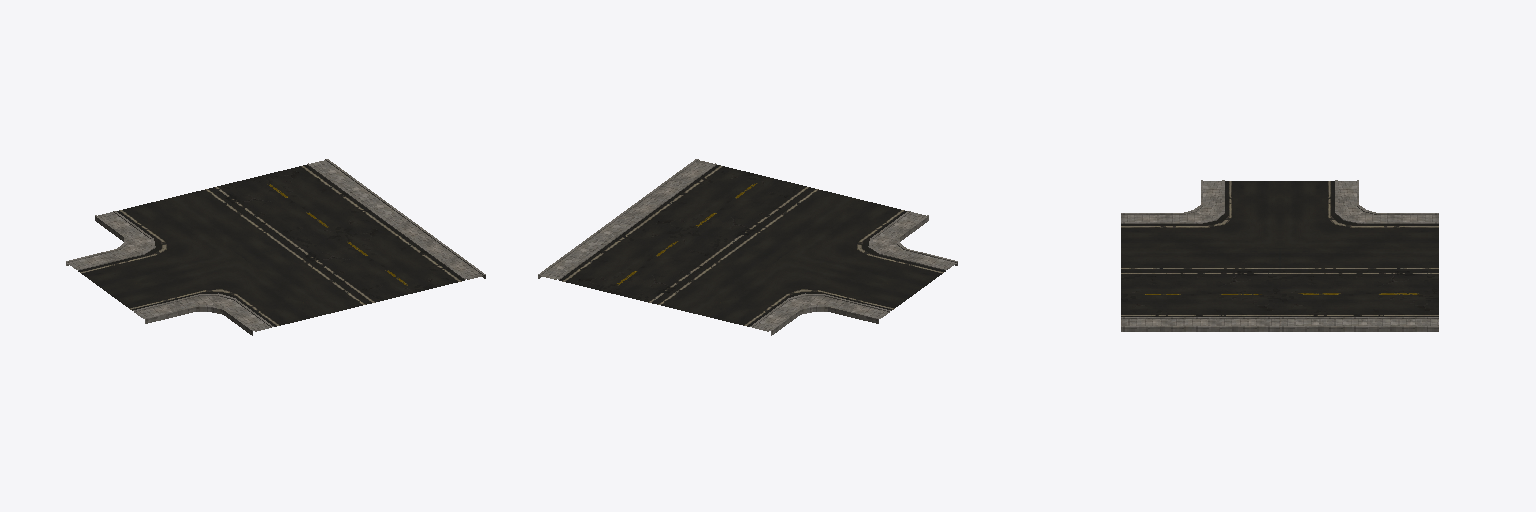
3 views of the same model, side by side, from view 1: azimuth 30°, elevation 25°; view 2: azimuth 150°, elevation 25°; view 3: azimuth 270°, elevation 25° (orthographic).
Visible parts, largest first — view 1: 7_Road-Intersection-B; view 2: 7_Road-Intersection-B; view 3: 7_Road-Intersection-B.
Boxes of the visible parts, box(x1,y1,x2,y2) form: 7_Road-Intersection-B: box(66, 159, 485, 335); 7_Road-Intersection-B: box(538, 159, 957, 335); 7_Road-Intersection-B: box(1121, 180, 1438, 331).
Size of the model in its own units: 1.36 by 0.0219 by 1.24.
1 materials, 1 textured.